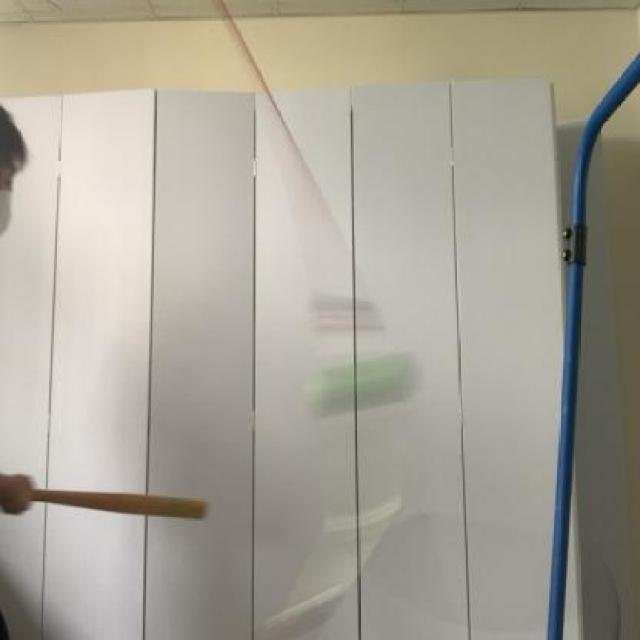baseball: (293, 349, 433, 431)
